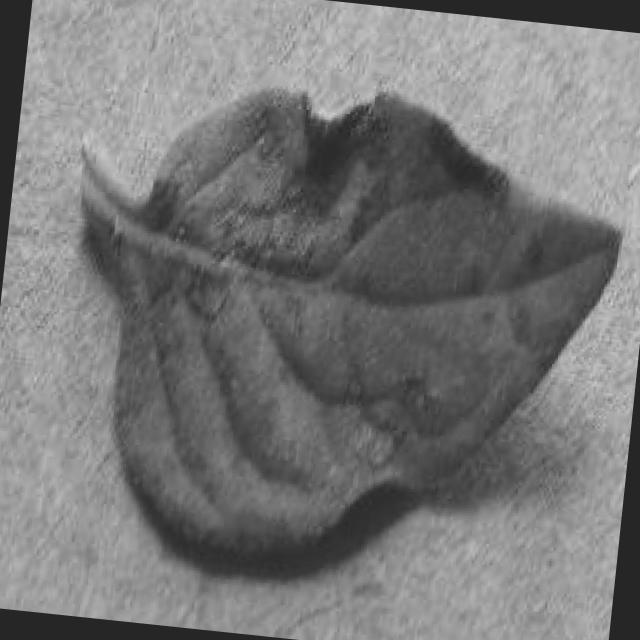leaf blight: (74, 83, 625, 554)
